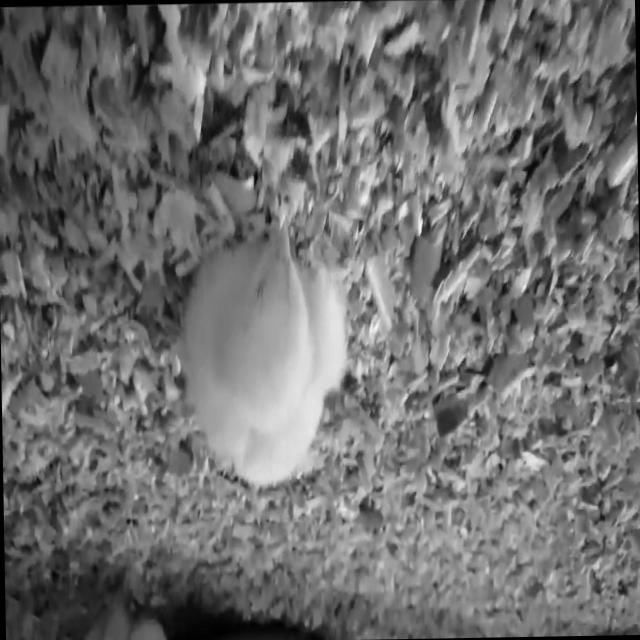sleeping chickens: (166, 205, 358, 524)
